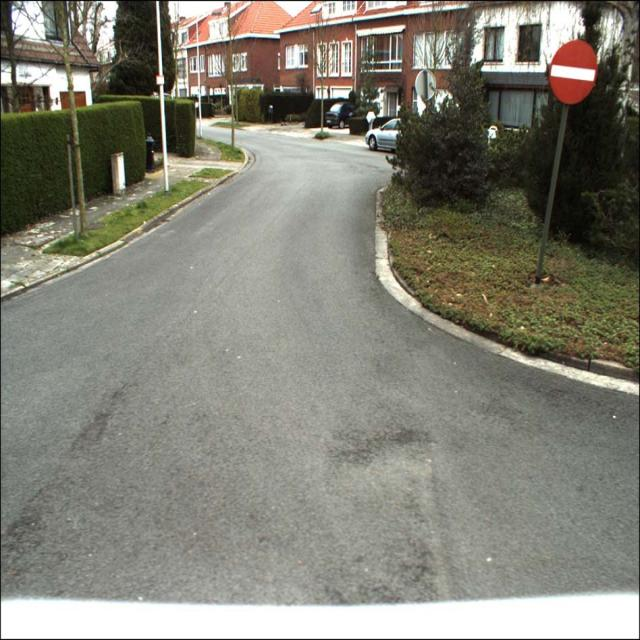girisyok: (549, 40, 598, 105)
